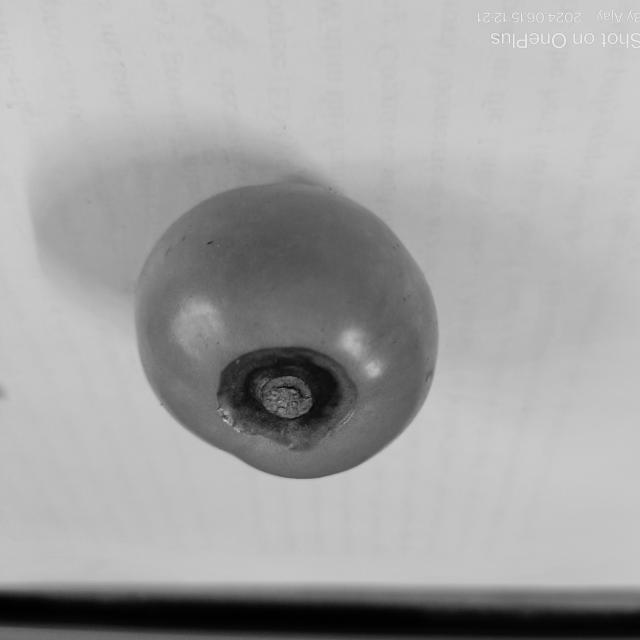Anthrocnose: (216, 349, 362, 449)
